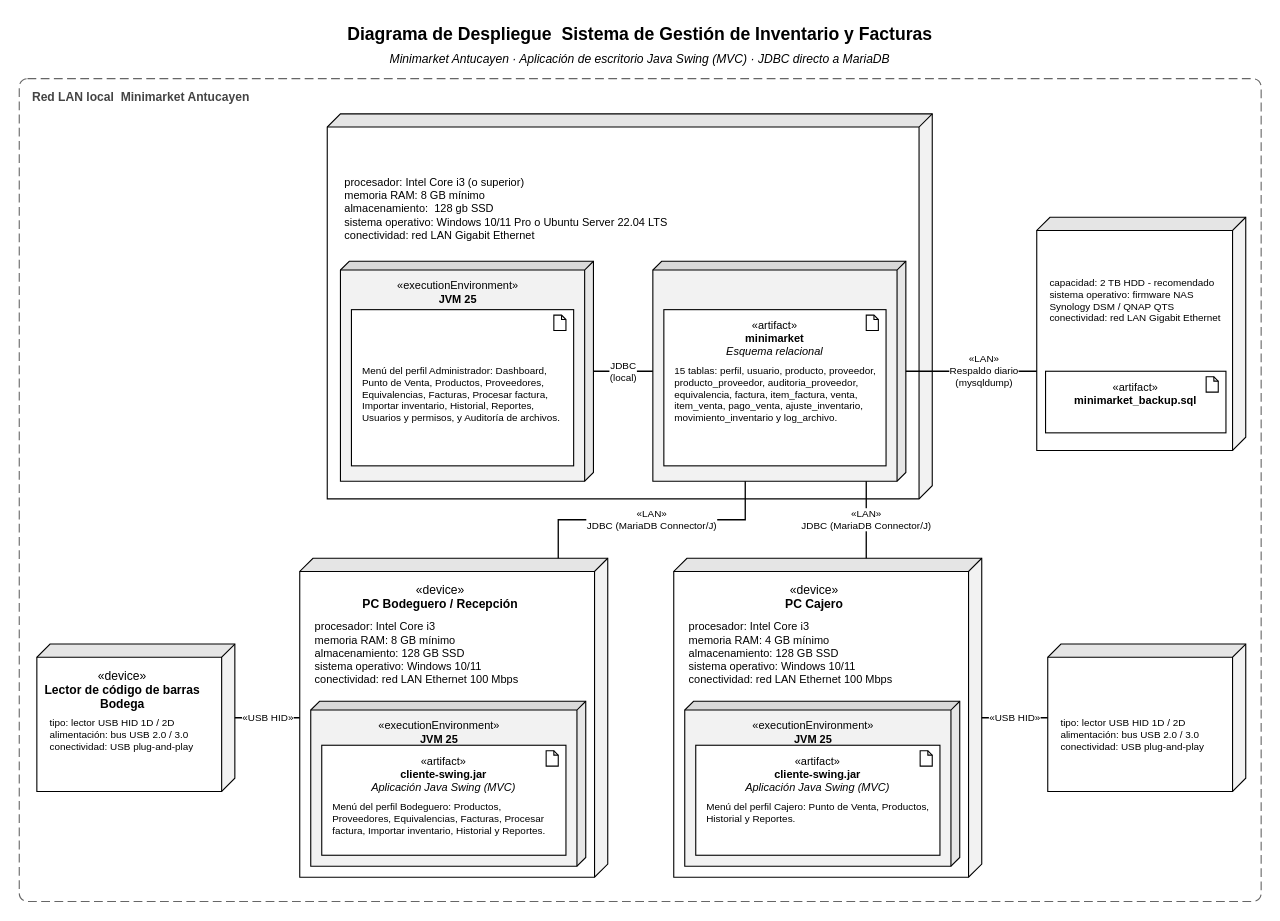
Some shapes in this 1280 by 921 pixel diagram are drawn without their labels. Here are the shapes that lost their labels. From the top down, the box of each, then its label:
(326, 113, 932, 499): «device» PC Administrador Servidor
(1036, 216, 1246, 450): «device» NAS / Almacenamiento externo
(350, 309, 574, 466): «artifact» cliente-swing.jar Aplicación Java Swing MVC
(652, 260, 906, 481): «executionEnvironment» MariaDB 10.6+
(1047, 643, 1246, 791): «device» Lector de código de barras Caja
